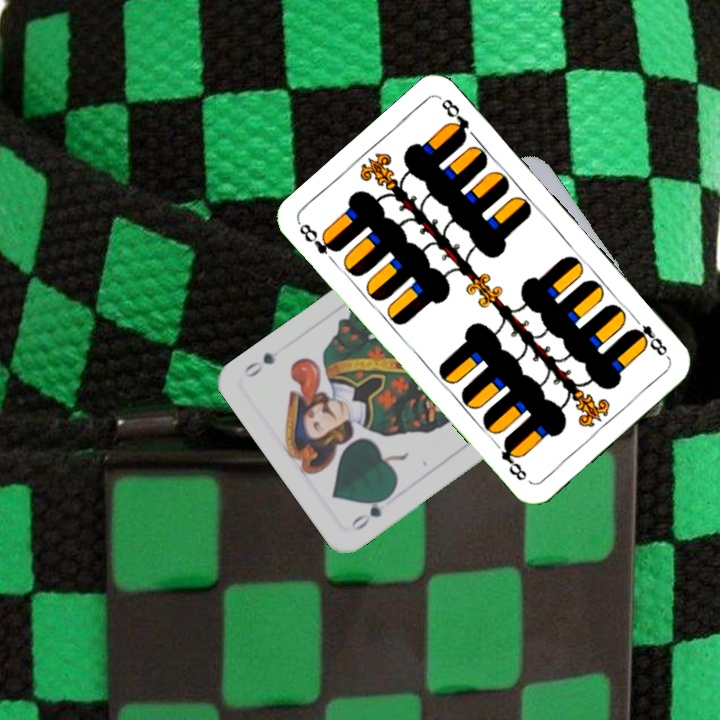E8: (627, 311, 671, 360), (295, 219, 343, 258)
GO: (347, 489, 395, 534)
